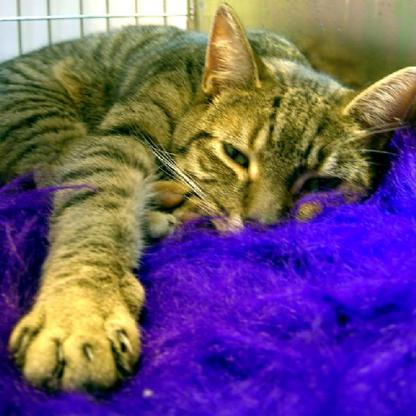cat: (0, 1, 414, 402)
